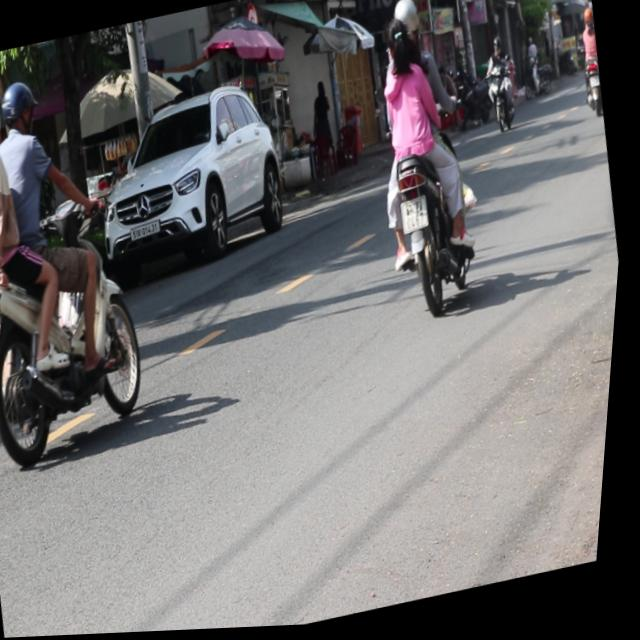helmet: (0, 75, 45, 142), (388, 0, 424, 45), (0, 89, 7, 153)
licenseplate: (0, 53, 182, 477), (343, 0, 508, 327)
motorcyclist: (385, 29, 421, 80)
nohelmet: (402, 200, 433, 235), (0, 318, 7, 350)
